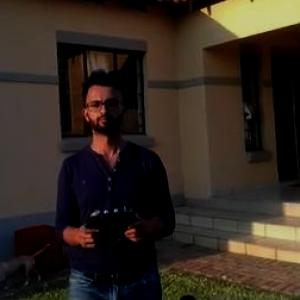follow: (50, 68, 181, 299)
null: (1, 235, 55, 294)
